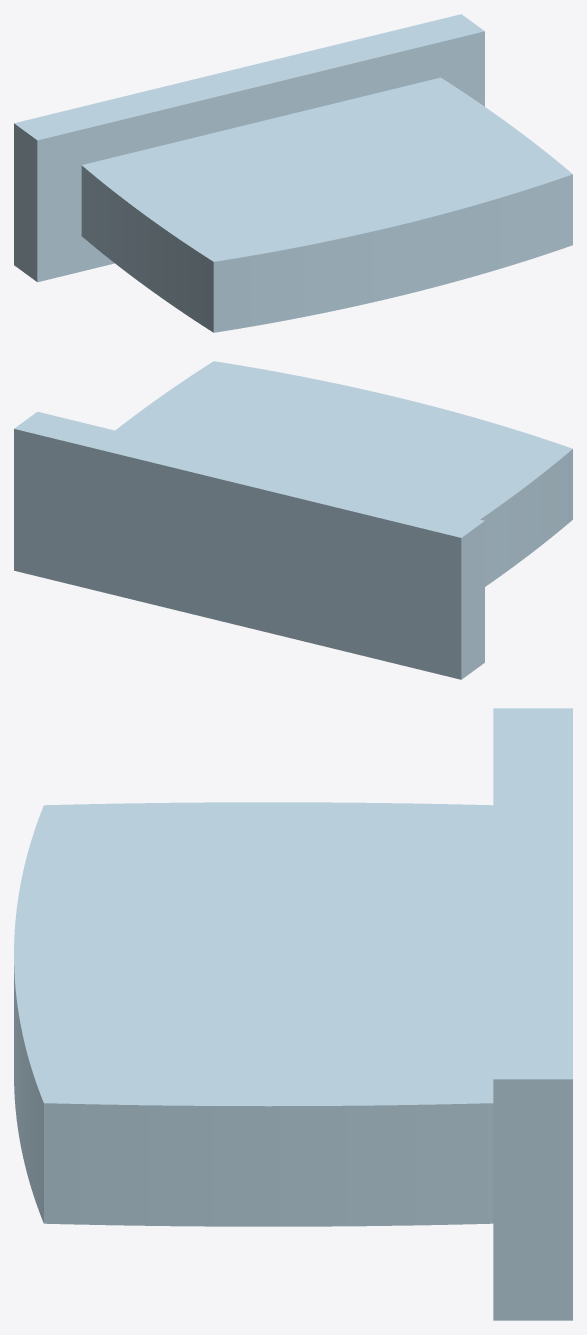
3 renders of one model, top to bottom at view 1: azimuth 30°, elevation 25°; view 2: azimuth 150°, elevation 25°; view 3: azimuth 270°, elevation 25°, orthographic. The views are drawn at different scales.
Visible parts, largest first — view 1: PA-588-F_LOD0; view 2: PA-588-F_LOD0; view 3: PA-588-F_LOD0.
Part boxes in pixels (box(x1,y1,x2,y2)): PA-588-F_LOD0: box(14, 14, 572, 332); PA-588-F_LOD0: box(14, 361, 572, 679); PA-588-F_LOD0: box(14, 708, 572, 1320).
Size of what is drawn, in the model's own units: 168 by 50.8 by 107.
